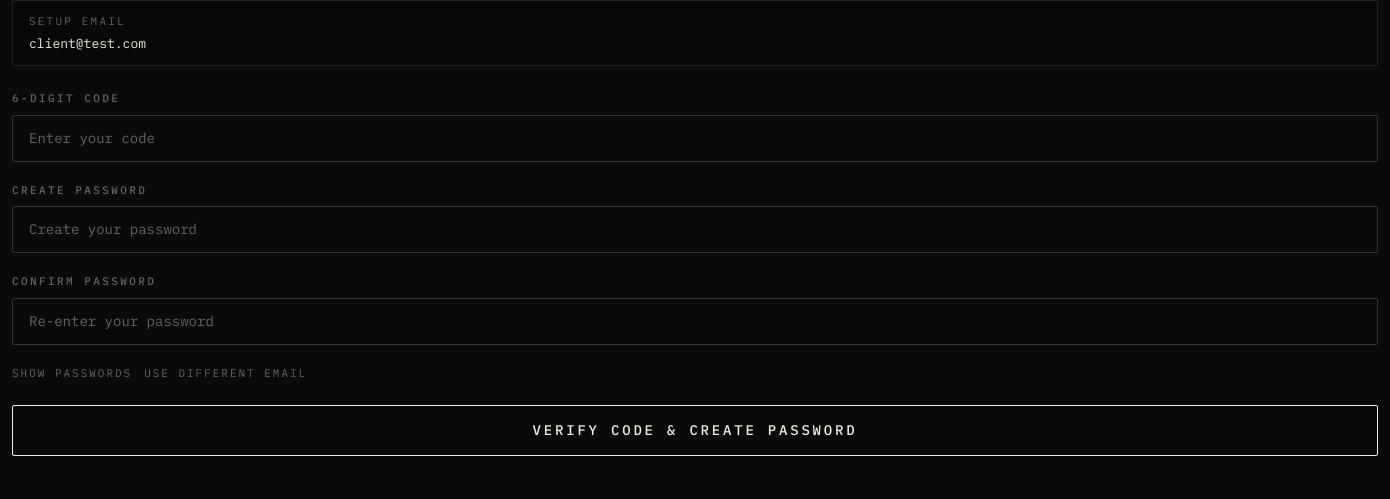
Test: ClientVerifySetupCodeForm › shows validation error when password is too short
Type "123456" into the field labelled "6-Digit Code".
click(695, 138); type("123456")  # box [12,114,1378,162]
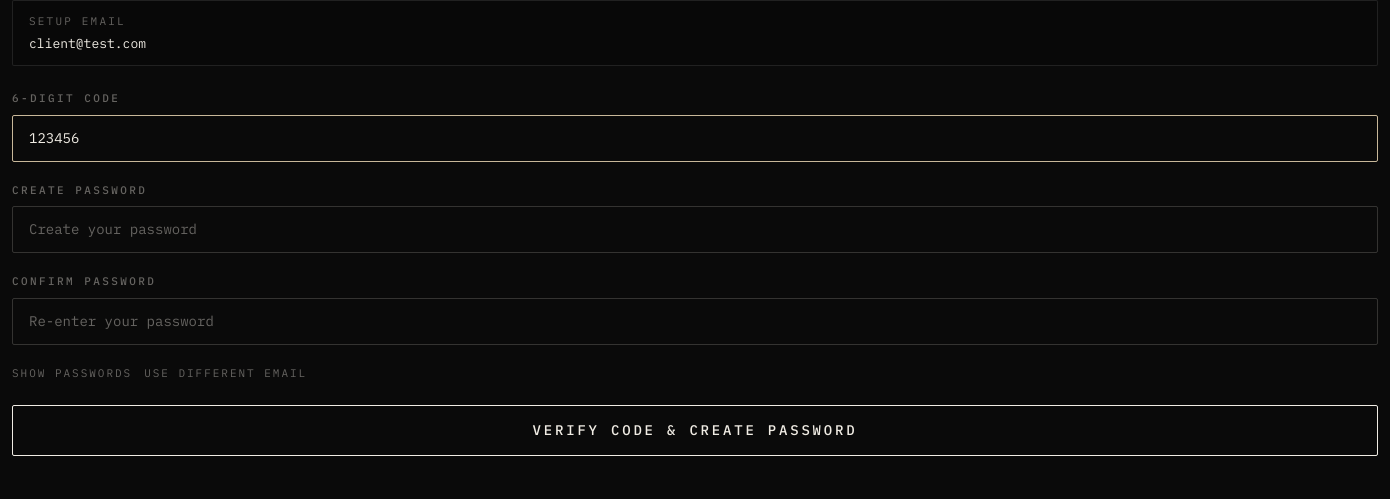
Type "short" into the password field labelled "Create Password".
click(695, 230); type("short")  # box [12,206,1378,253]
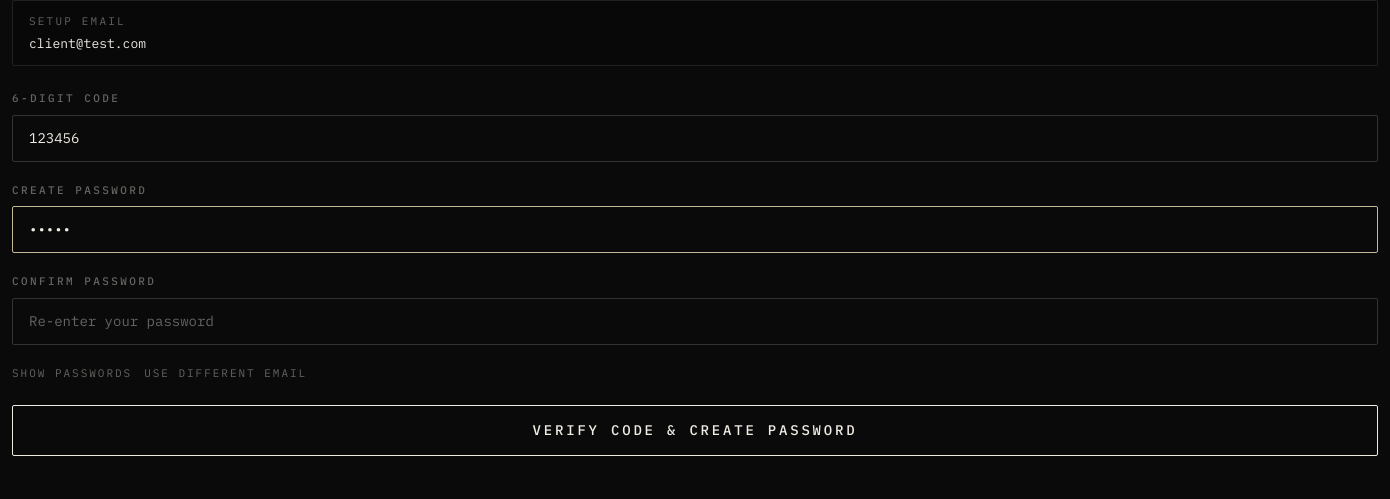
Type "short" into the password field labelled "Confirm Password".
click(695, 321); type("short")  # box [12,298,1378,344]
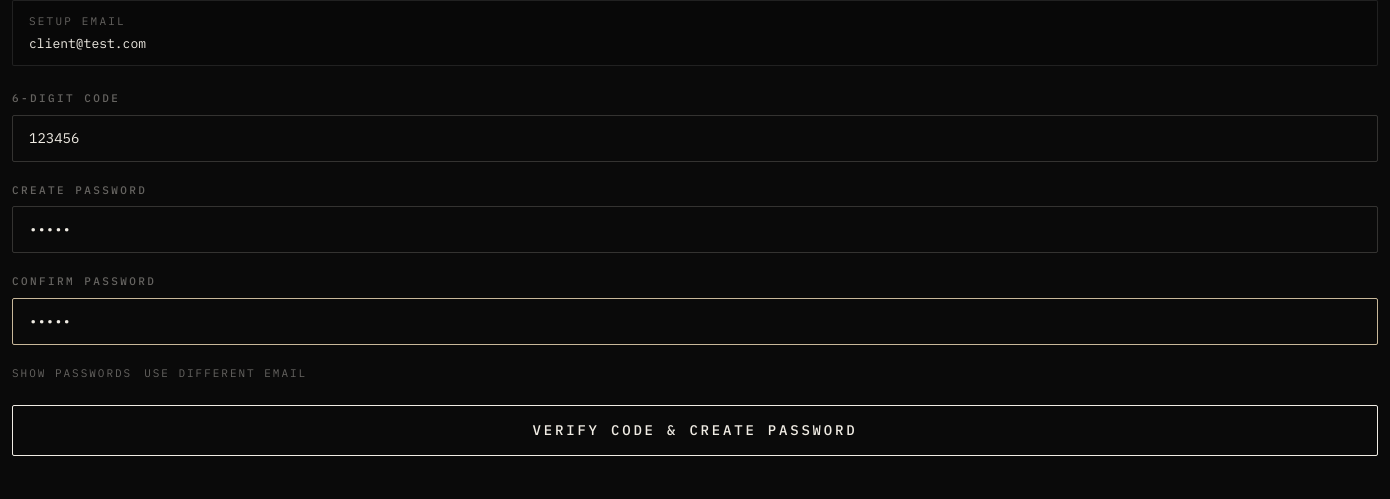
Click the button "Verify Code & Create Password".
click(695, 430)  # box [12,405,1378,456]
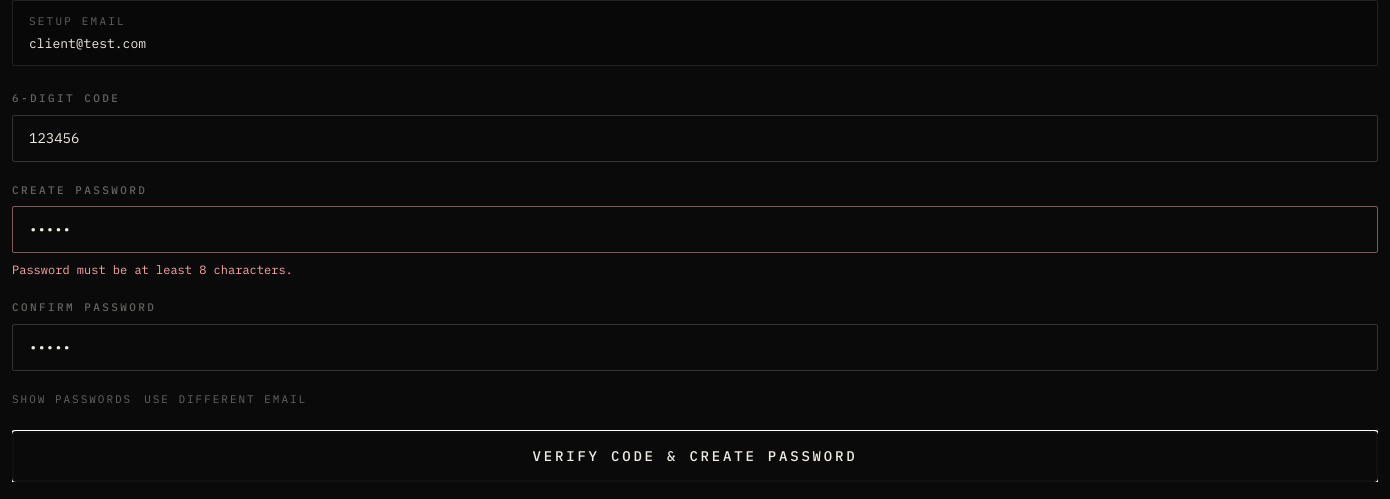
Expected: the text "Password must be at least 8 characters." is shown, [12,262,293,277]
